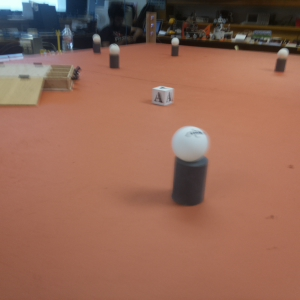blockA: (152, 85, 173, 108)
corner: (144, 12, 161, 45)
obstacle: (166, 126, 211, 198), (108, 42, 124, 71), (273, 48, 291, 73), (169, 37, 180, 57), (92, 35, 101, 55)
side: (48, 62, 75, 95)
slope: (1, 71, 39, 113)
